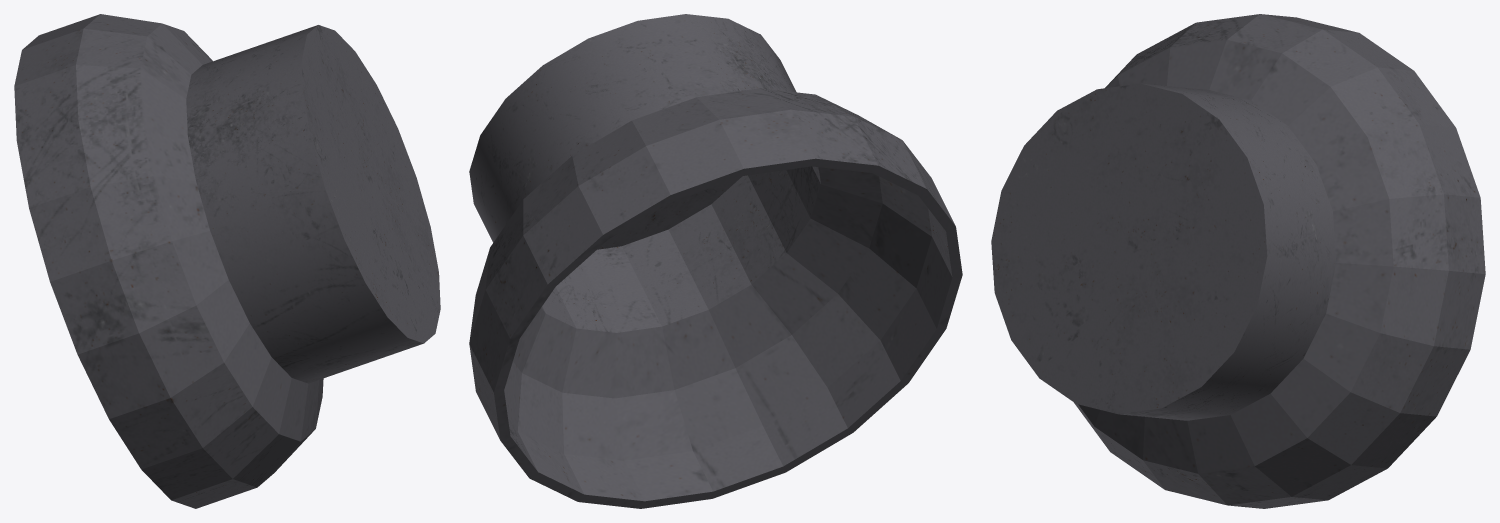
File: LightText.fbx
The picture shows the model from 3 angles, left to right: view 1: azimuth 30°, elevation 25°; view 2: azimuth 150°, elevation 25°; view 3: azimuth 270°, elevation 25°; orthographic projection. The views are drawn at different scales.
Visible parts, largest first — view 1: Light; view 2: Light; view 3: Light.
Boxes of the visible parts, x1,y1,x2,y2 form: Light: [14, 14, 440, 508]; Light: [469, 14, 962, 508]; Light: [991, 14, 1485, 508].
Size of the model in its own units: 43.54 by 43.95 by 44.73.
1 material, 1 textured.
